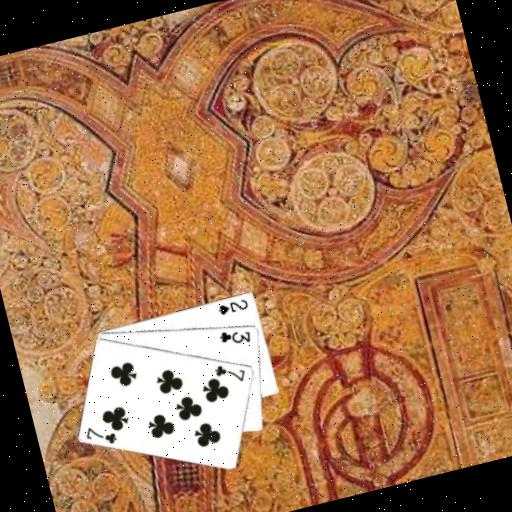2S: (214, 295, 251, 317)
3C: (216, 323, 255, 351)
7C: (211, 356, 250, 389), (81, 419, 120, 452)
